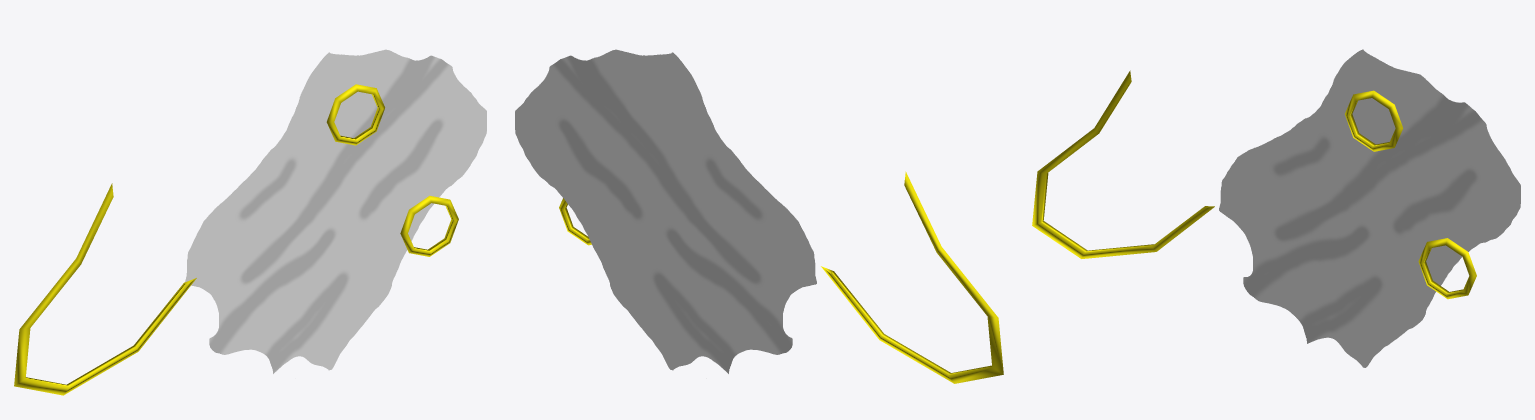
File: sita_evidance.obj
The picture shows the model from 3 angles, left to right: view 1: azimuth 30°, elevation 25°; view 2: azimuth 150°, elevation 25°; view 3: azimuth 330°, elevation 25°; orthographic projection.
Parts seen in each view (by area): view 1: Plane, Torus.002, Torus.001, Torus; view 2: Plane, Torus.002; view 3: Plane, Torus.002, Torus.001, Torus.
Part boxes in pixels (bbox=[...]): Plane: bbox=[185, 49, 486, 373]; Torus.002: bbox=[14, 183, 196, 395]; Torus.001: bbox=[400, 195, 458, 256]; Torus: bbox=[326, 84, 384, 145]; Plane: bbox=[515, 49, 816, 373]; Torus.002: bbox=[821, 171, 1003, 383]; Plane: bbox=[1219, 49, 1520, 367]; Torus.002: bbox=[1032, 70, 1214, 258]; Torus.001: bbox=[1418, 238, 1476, 299]; Torus: bbox=[1345, 90, 1403, 151].
Bounding box in the file's own units: 3.17 × 2 × 0.1123.
Materials: 2 (1 with a texture image).
